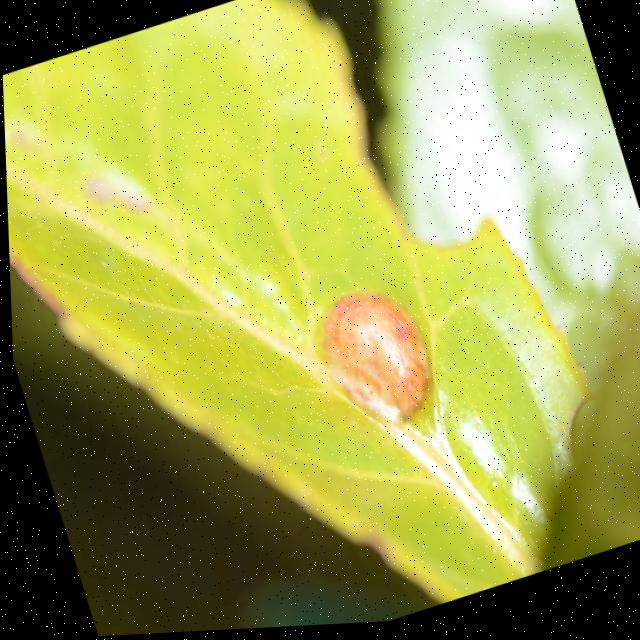Tea cake: (303, 277, 446, 445)
